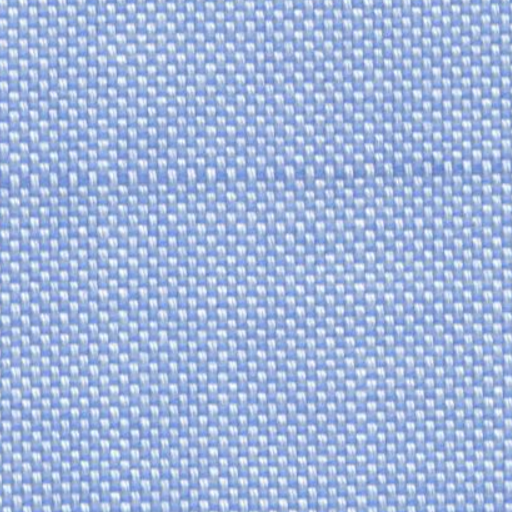TuoSha: (13, 140, 500, 214)
